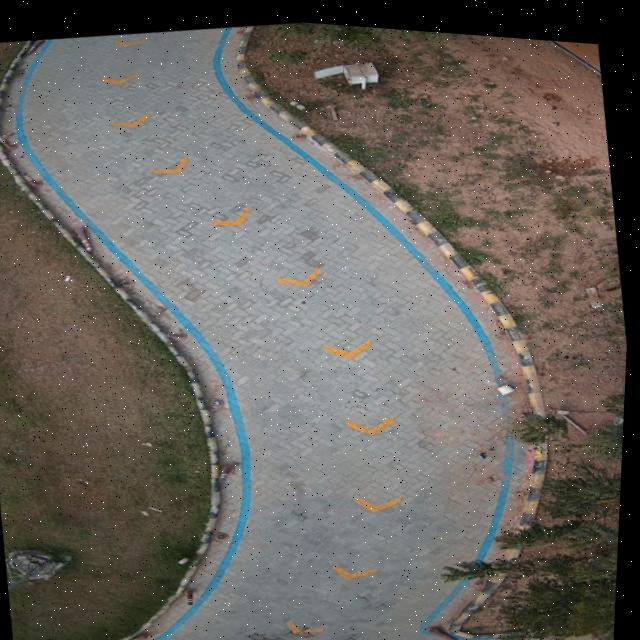No Car: (0, 17, 629, 640)
